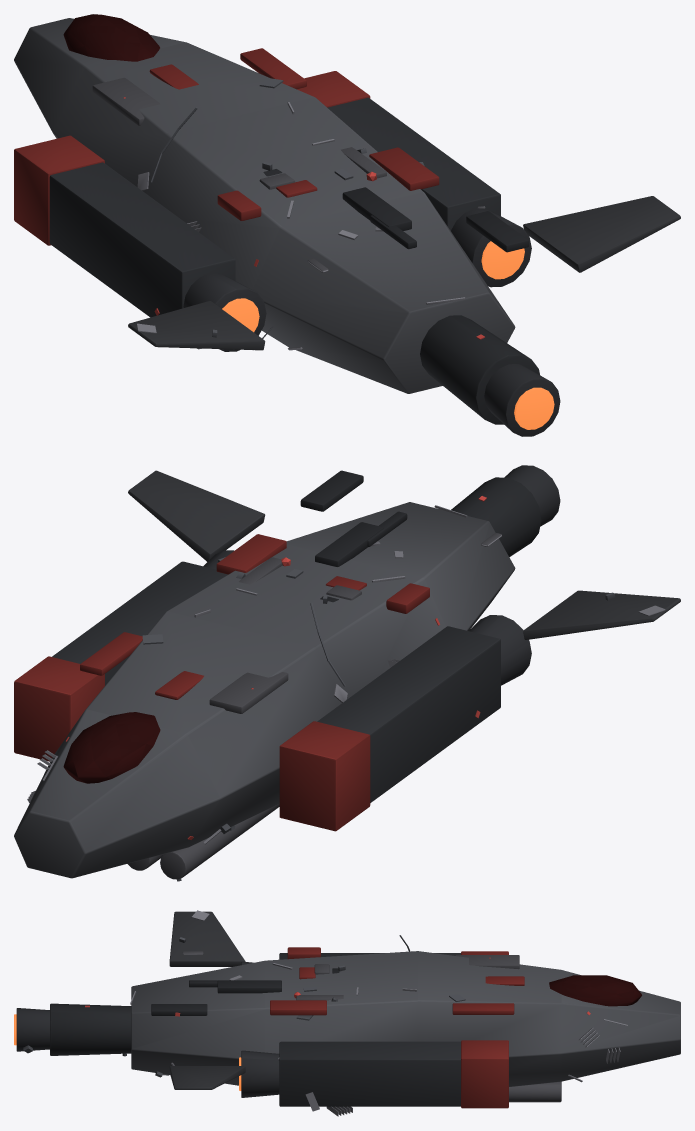
Rendered from enemy_mauler.glb.
3 renders of one model, top to bottom at view 1: azimuth 30°, elevation 25°; view 2: azimuth 150°, elevation 25°; view 3: azimuth 270°, elevation 25°, orthographic. The views are drawn at different scales.
Visible parts, largest first — view 1: EnemyMauler; view 2: EnemyMauler; view 3: EnemyMauler.
Boxes of the visible parts, x1,y1,x2,y2 form: EnemyMauler: (14, 14, 680, 436); EnemyMauler: (14, 465, 680, 881); EnemyMauler: (14, 910, 680, 1116).
Size of the model in its own units: 8.73 by 3.17 by 13.95.
